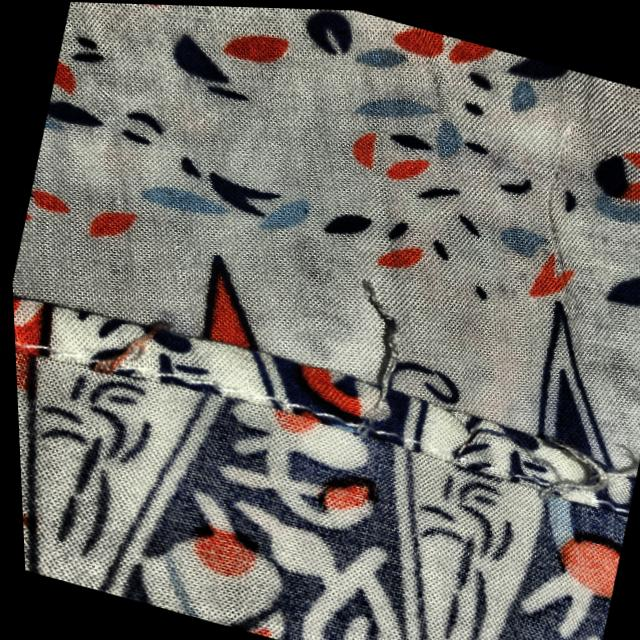Stitch: (303, 237, 459, 463), (41, 257, 220, 430), (498, 372, 640, 552)
